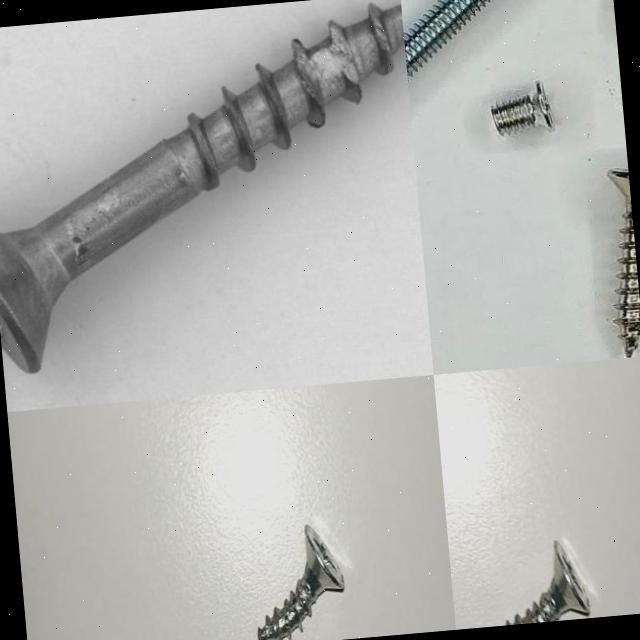Screw: (0, 0, 433, 411), (257, 524, 344, 640), (505, 540, 590, 625), (403, 0, 488, 79), (607, 169, 640, 357), (490, 80, 554, 135)
